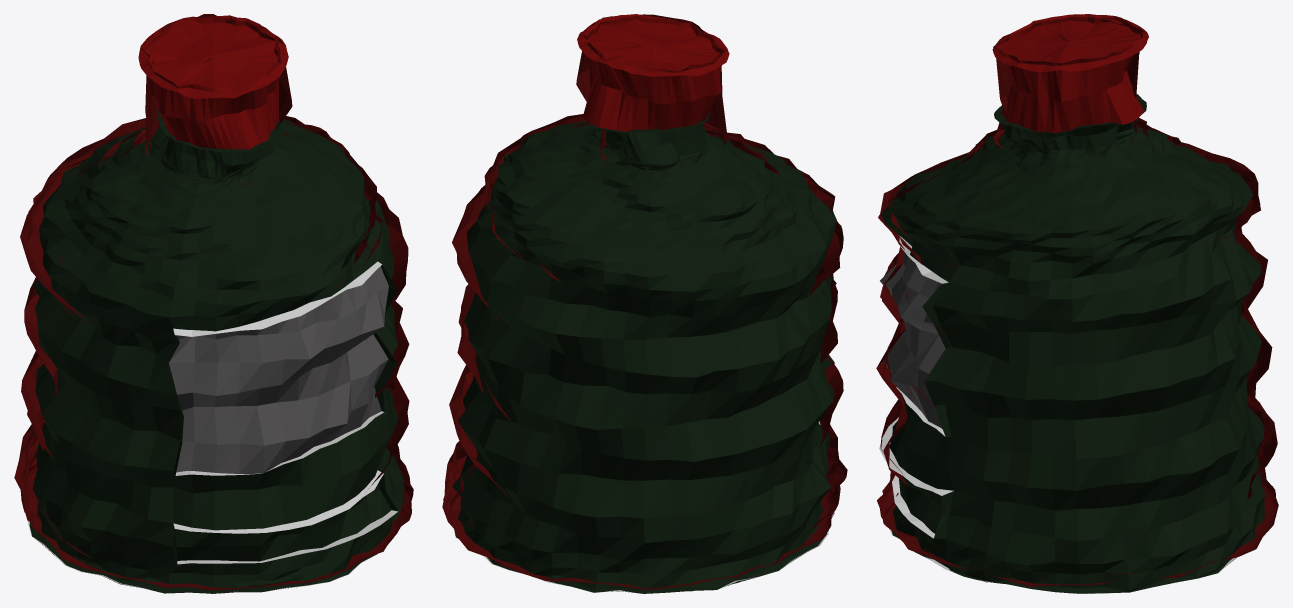
File: crush_high_1.obj
3 renders of one model, left to right at view 1: azimuth 30°, elevation 25°; view 2: azimuth 150°, elevation 25°; view 3: azimuth 270°, elevation 25°, orthographic.
Visible parts, largest first — view 1: model; view 2: model; view 3: model.
Part boxes in pixels (<box>): model: <box>14,14,413,593</box>; model: <box>442,14,847,593</box>; model: <box>876,14,1278,593</box>.
Size of the model in its own units: 0.0692 by 0.0925 by 0.0698.
Materials: 1 (1 with a texture image).
